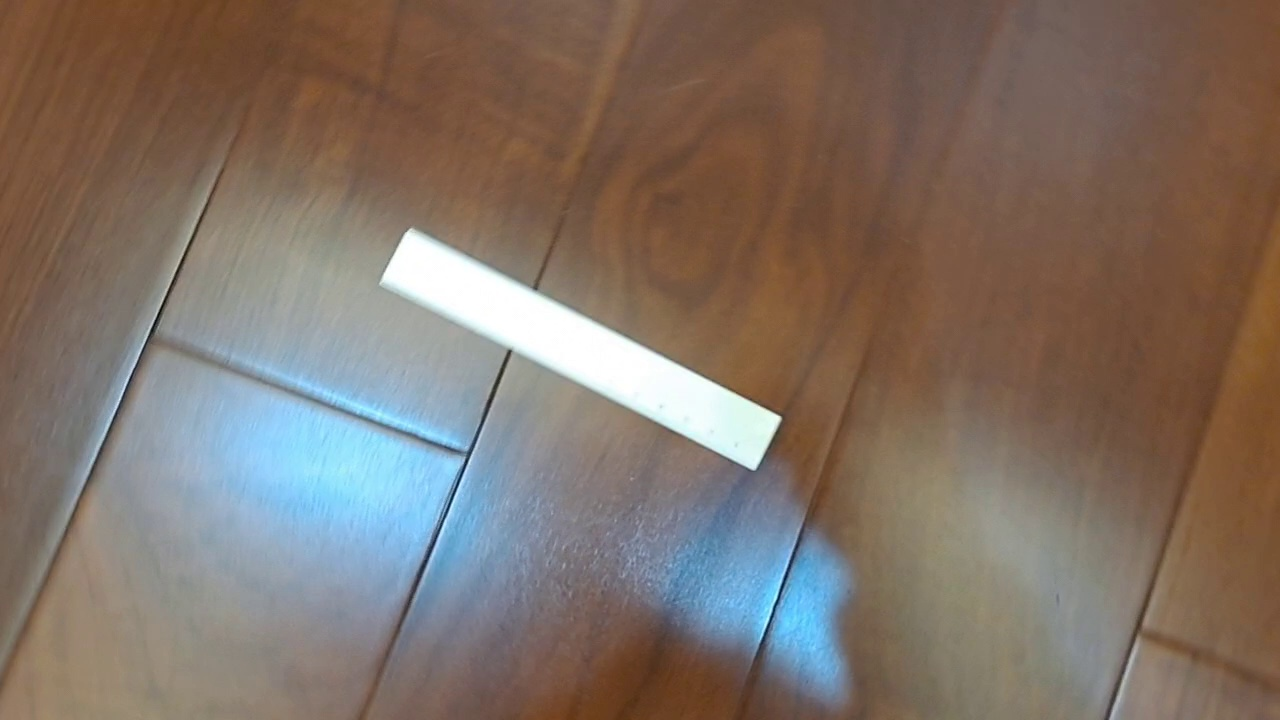ruler: (378, 226, 784, 474)
